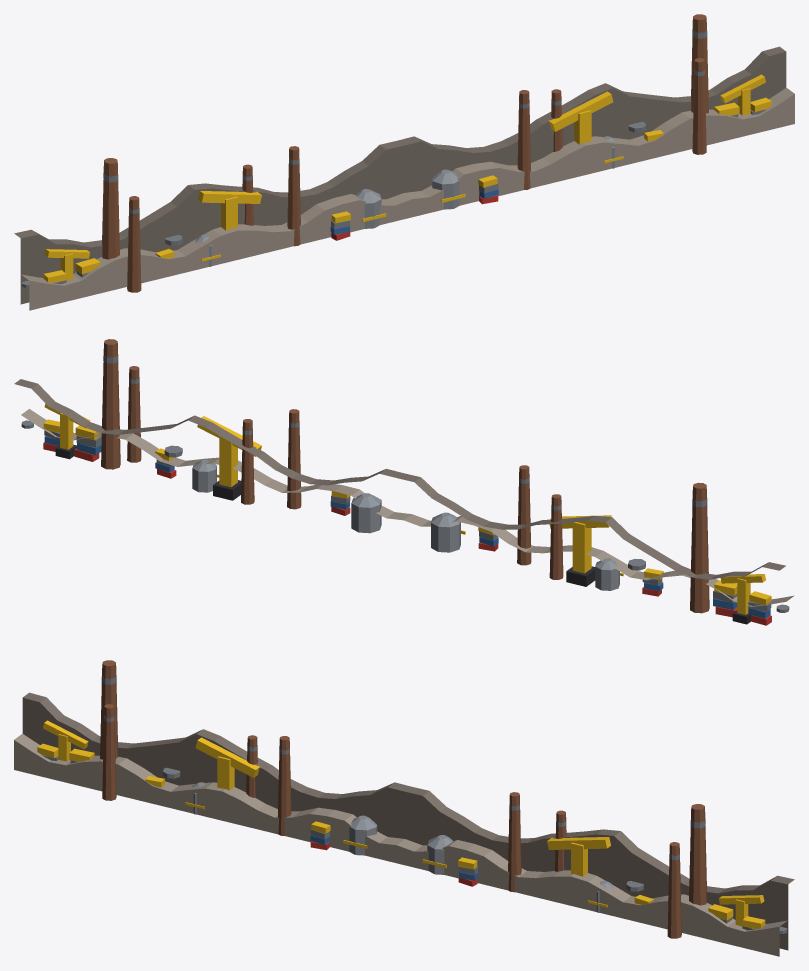
The model's file is backdrop_junkyard.glb.
3 renders of one model, top to bottom at view 1: azimuth 30°, elevation 25°; view 2: azimuth 150°, elevation 25°; view 3: azimuth 330°, elevation 25°, orthographic.
Parts seen in each view (by area): view 1: backdrop_junkyard; view 2: backdrop_junkyard; view 3: backdrop_junkyard.
Boxes of the visible parts, x1,y1,x2,y2 form: backdrop_junkyard: [14, 14, 794, 310]; backdrop_junkyard: [14, 339, 794, 625]; backdrop_junkyard: [14, 660, 794, 956].
Bounding box in the file's own units: 260 × 40 × 14.
1 material, 1 textured.
